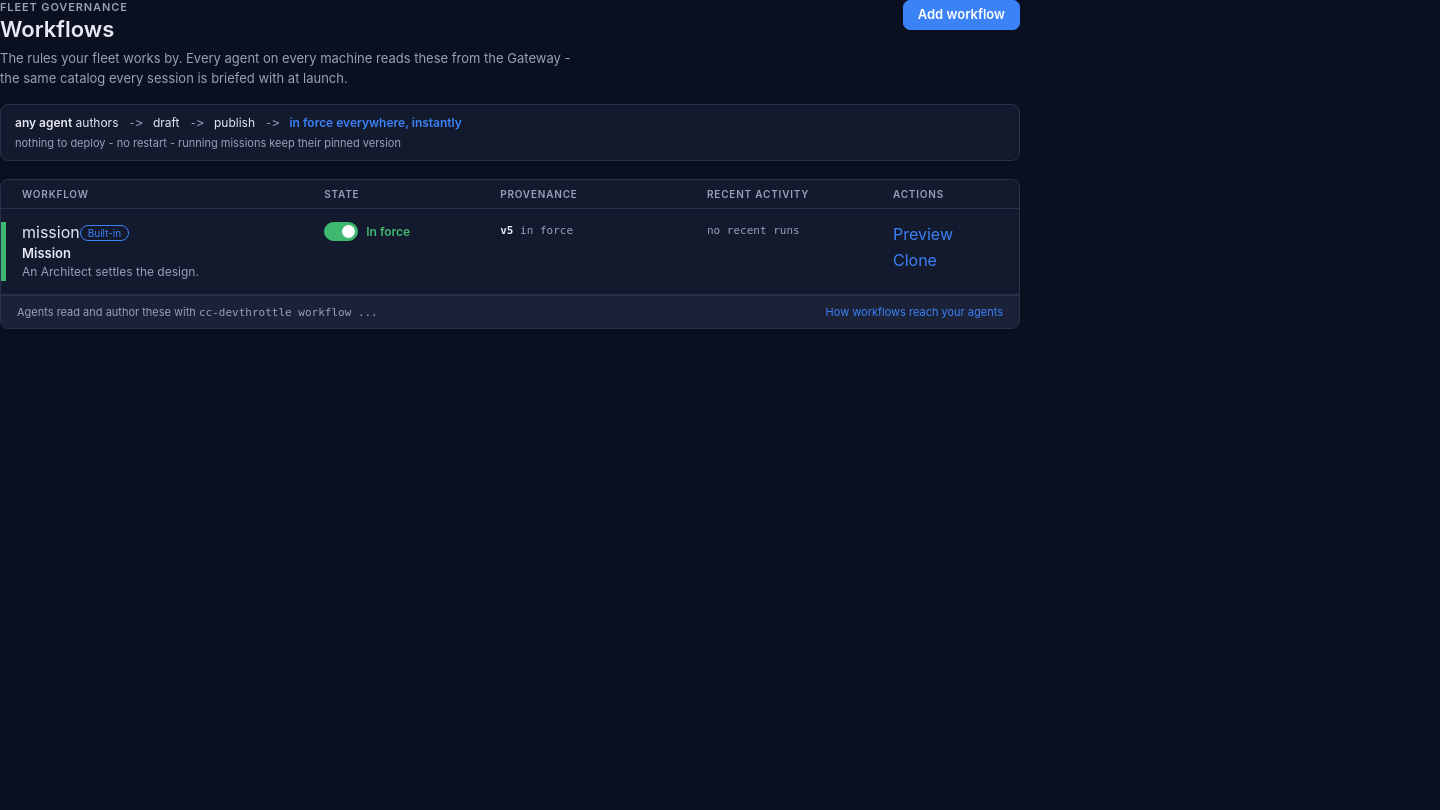
Test: WorkflowsView register actions › a failed clone lands in the page error state, never silent
Step 1. Click the button with aria-label "Clone Mission" → {"x": 915, "y": 260}, box [893,250,937,270]
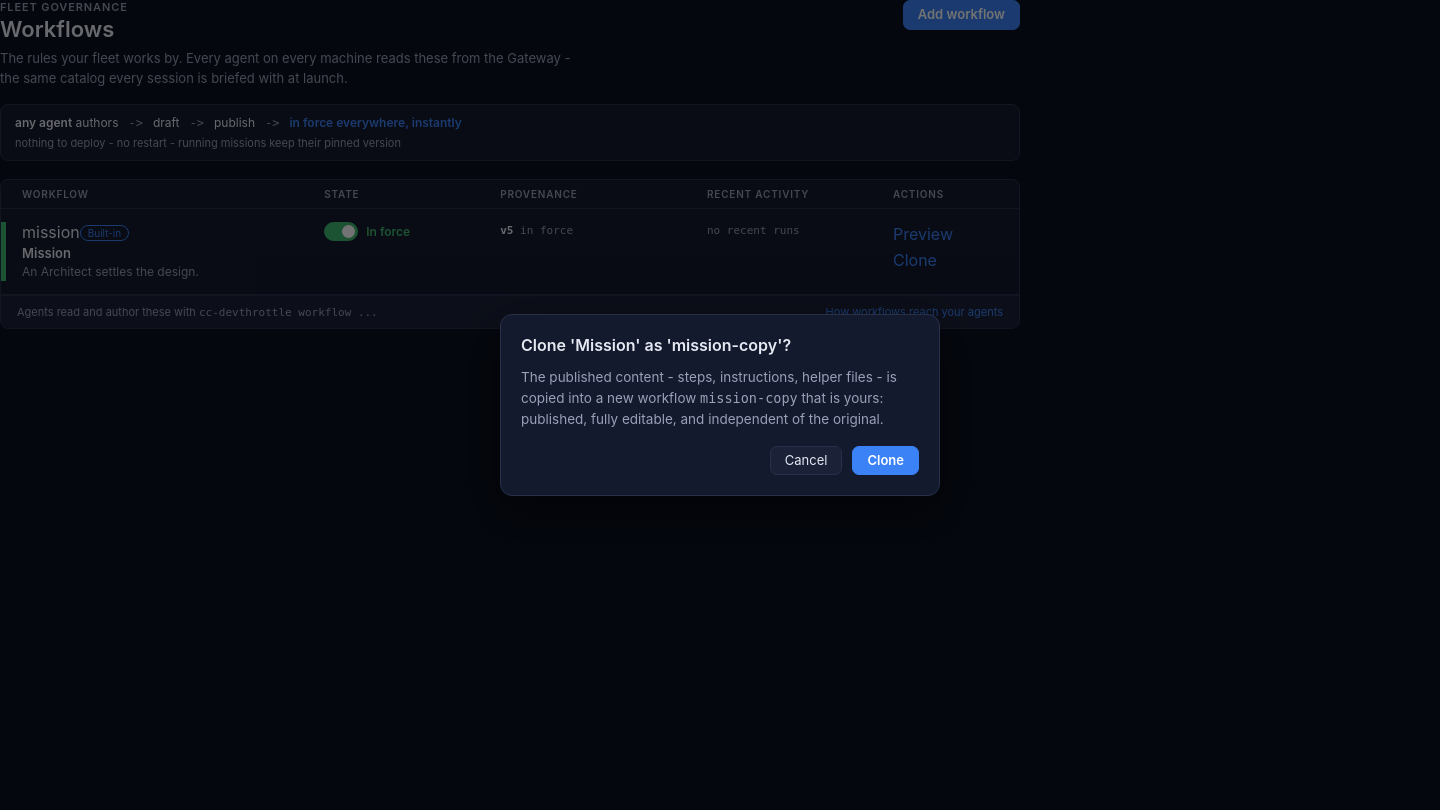
Step 2. Click the button "Clone" → {"x": 886, "y": 460}, box [852,446,919,475]
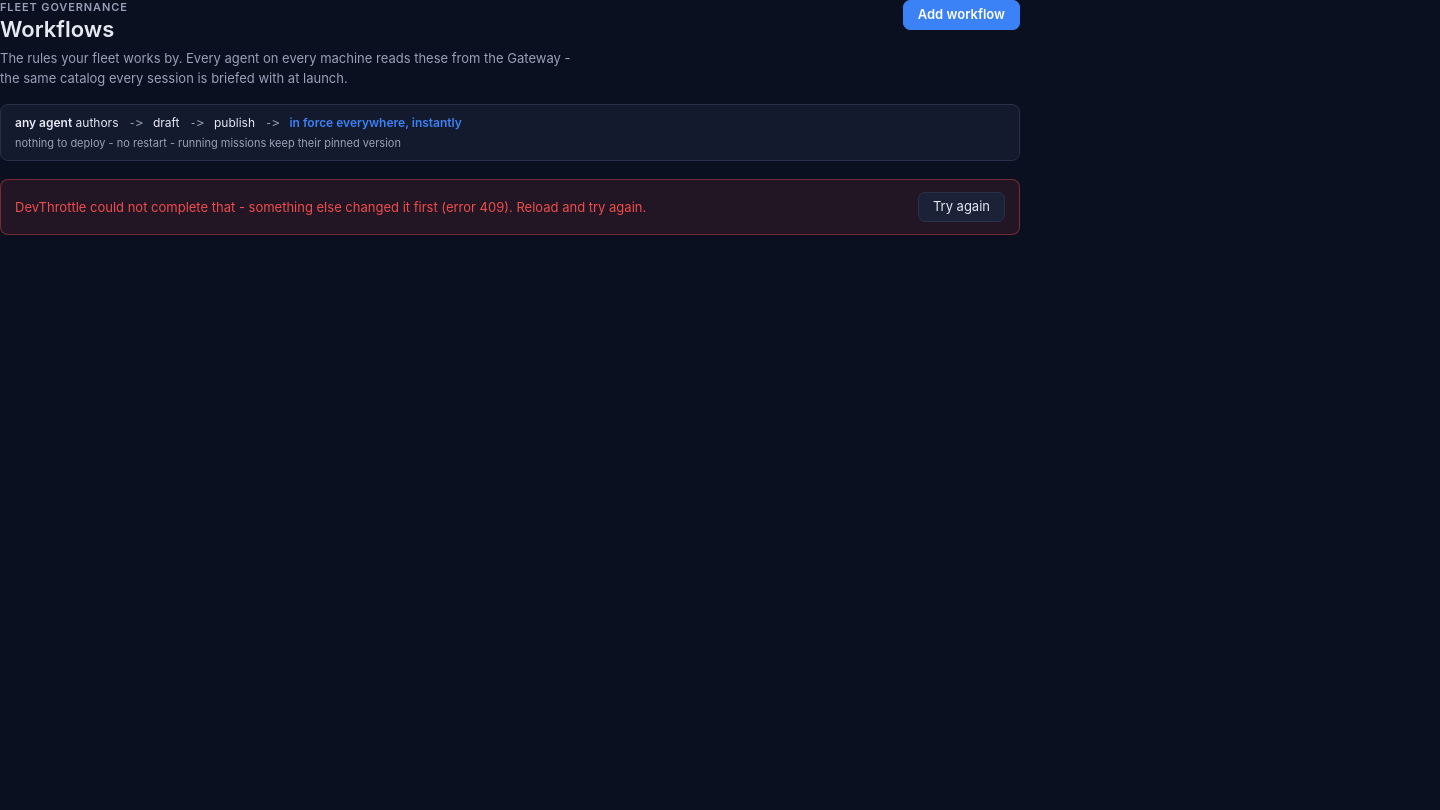
expect the text "something else changed it first" is shown: met, box [15,199,646,215]
